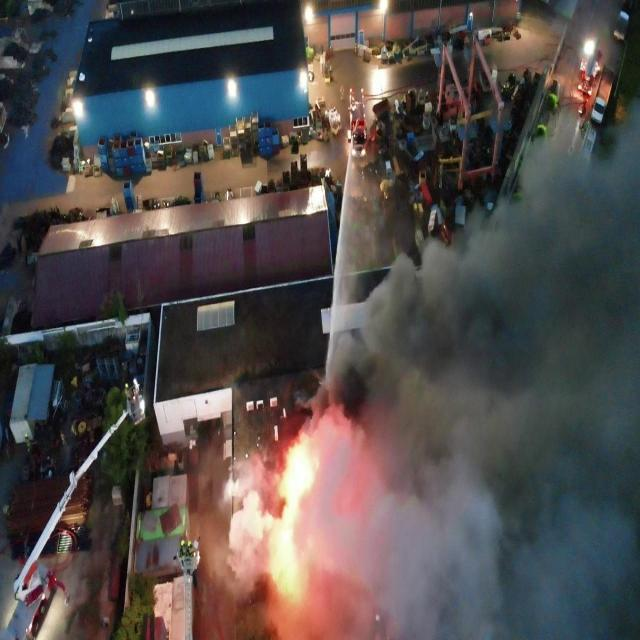Fire: (286, 434, 320, 509), (276, 526, 300, 590)
Smoke: (220, 94, 640, 640)
